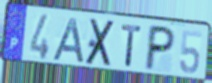4: (29, 12, 51, 62)
5: (178, 28, 203, 75)
A: (51, 16, 87, 65)
P: (143, 24, 178, 73)
T: (120, 23, 144, 69)
X: (84, 18, 117, 68)
